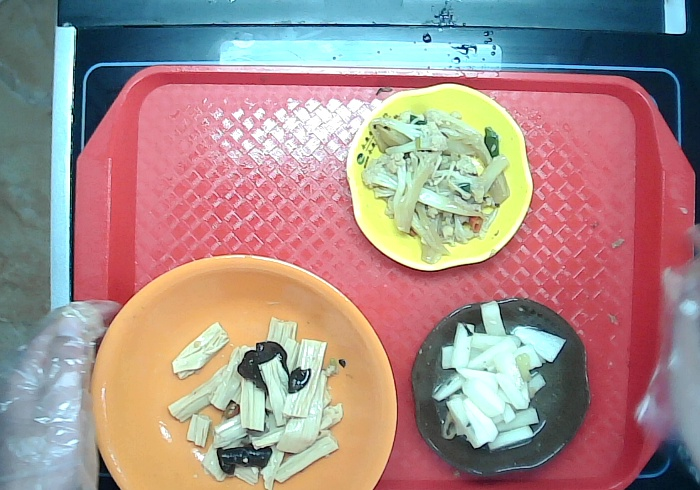YKMZ-Huang_Se_Ao_Bian_Wan: (345, 80, 535, 273)
YKMZ-Ju_Se_Tang_Wan: (89, 253, 400, 490)
YKMZ-Ka_Fei_Ao_Bian_Wan: (409, 296, 592, 478)
